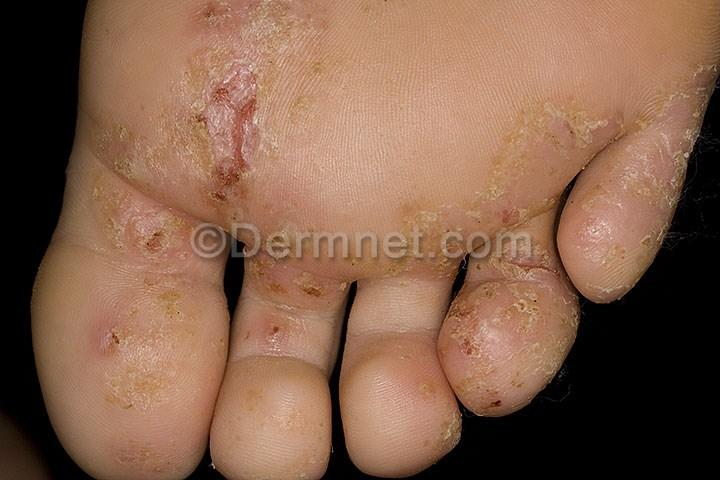Eczema: (173, 68, 266, 184), (73, 181, 181, 280), (76, 291, 166, 378), (244, 245, 331, 321), (96, 116, 186, 185), (608, 53, 678, 139), (510, 92, 587, 168), (88, 367, 184, 426), (379, 214, 467, 275), (89, 425, 180, 480), (181, 2, 282, 51), (161, 33, 268, 77), (569, 206, 626, 280), (264, 51, 311, 133), (604, 145, 665, 208), (564, 89, 621, 147), (478, 129, 537, 184), (665, 42, 707, 117), (241, 307, 301, 352), (154, 282, 195, 347), (517, 222, 561, 282), (235, 382, 284, 430), (472, 236, 521, 283), (496, 284, 549, 324), (291, 25, 331, 76), (573, 174, 633, 207), (449, 310, 495, 353), (457, 173, 498, 220), (489, 188, 541, 223), (286, 440, 324, 480), (658, 142, 694, 183), (551, 289, 575, 350), (579, 271, 624, 302), (277, 5, 346, 25), (647, 175, 672, 230), (476, 364, 508, 406), (385, 327, 418, 367), (527, 329, 554, 377), (628, 220, 652, 272), (509, 351, 531, 397), (355, 0, 394, 25), (456, 290, 499, 310), (499, 323, 530, 350), (438, 408, 462, 442), (677, 117, 705, 141), (409, 381, 440, 398)
